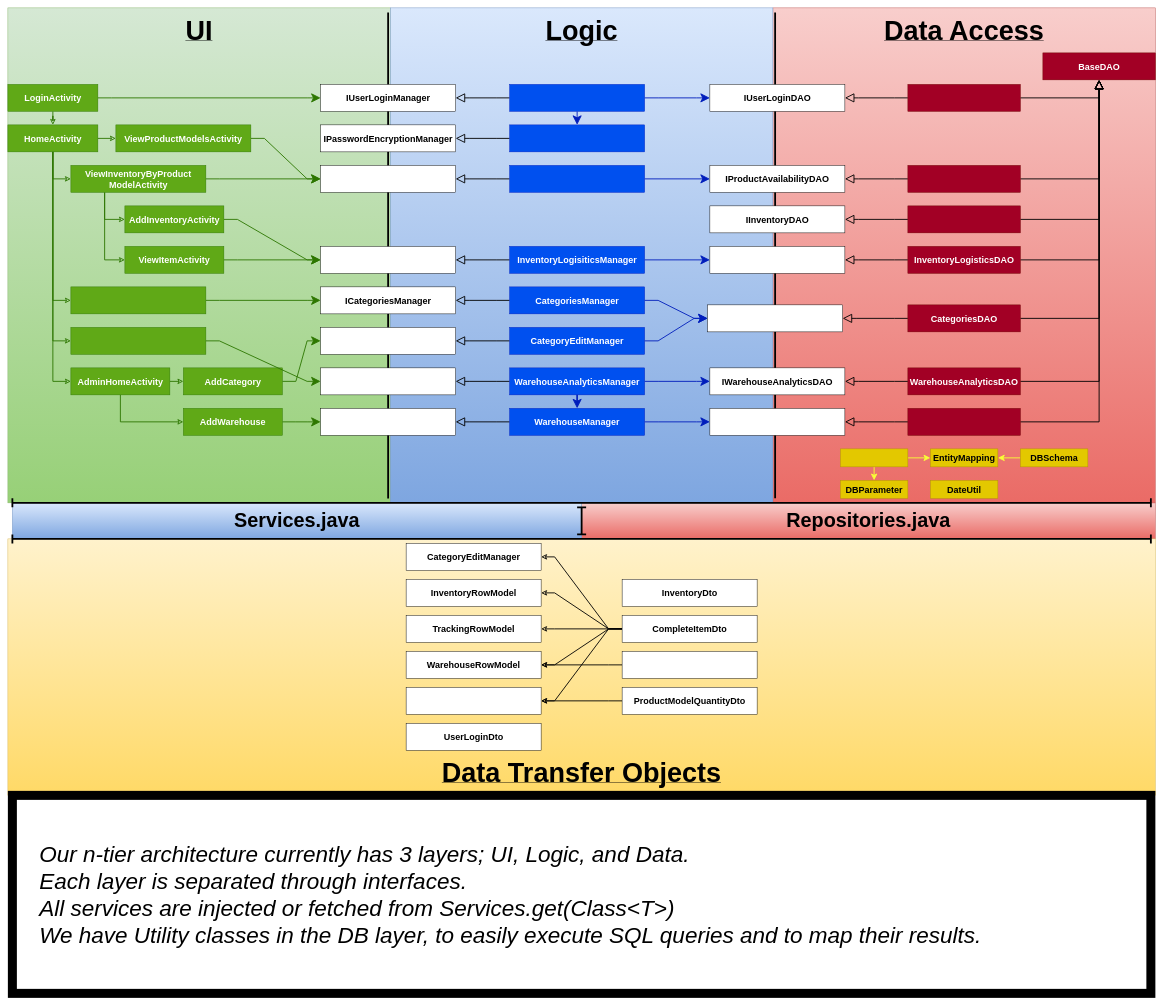
Image size: 1163x1006. Some labels were removed from this diagram. Each missing label, with the centre of its shape:
"ICategoriesDAO" goes at pixel 775 318.
"ICategoryEditManager" goes at pixel 388 340.
"IInventoryLogisiticsManager" goes at pixel 388 259.
"IInventoryLogisticsDAO" goes at pixel 777 259.
"InventoryDAO" goes at pixel 963 219.
"IProductAvailabilityManager" goes at pixel 388 178.
"IWarehouseAnalyticsManager" goes at pixel 388 381.
"IWarehouseDAO" goes at pixel 777 421.
"IWarehouseManager" goes at pixel 388 421.
"PasswordEncryptionManager" goes at pixel 577 138.
"ProductAvailabilityDAO" goes at pixel 963 178.
"ProductAvailabilityManager" goes at pixel 577 178.
"ProductModelRowModel" goes at pixel 473 700.
"SQL" goes at pixel 874 457.
"UserLoginDAO" goes at pixel 963 97.
"UserLoginManager" goes at pixel 577 97.
"ViewCategoriesActivity" goes at pixel 138 300.
"WarehouseActivity" goes at pixel 138 340.
"WarehouseDAO" goes at pixel 963 421.
"WarehouseDto" goes at pixel 689 664.
